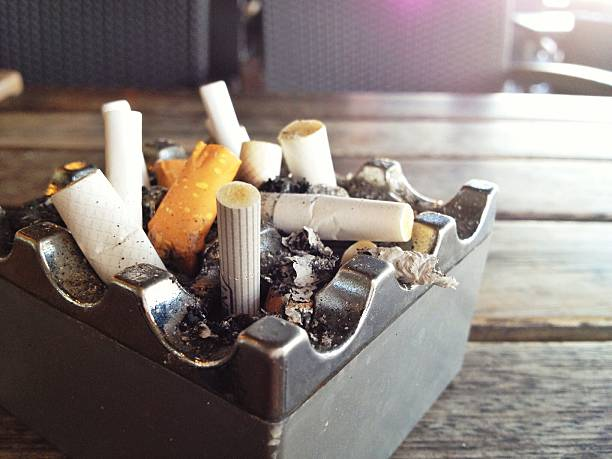cigarette: (49, 166, 169, 288), (149, 139, 242, 268), (262, 192, 415, 244), (215, 179, 262, 317), (103, 109, 144, 227), (276, 119, 338, 187), (199, 78, 242, 160), (240, 141, 283, 185), (151, 155, 190, 189), (100, 97, 131, 112)
